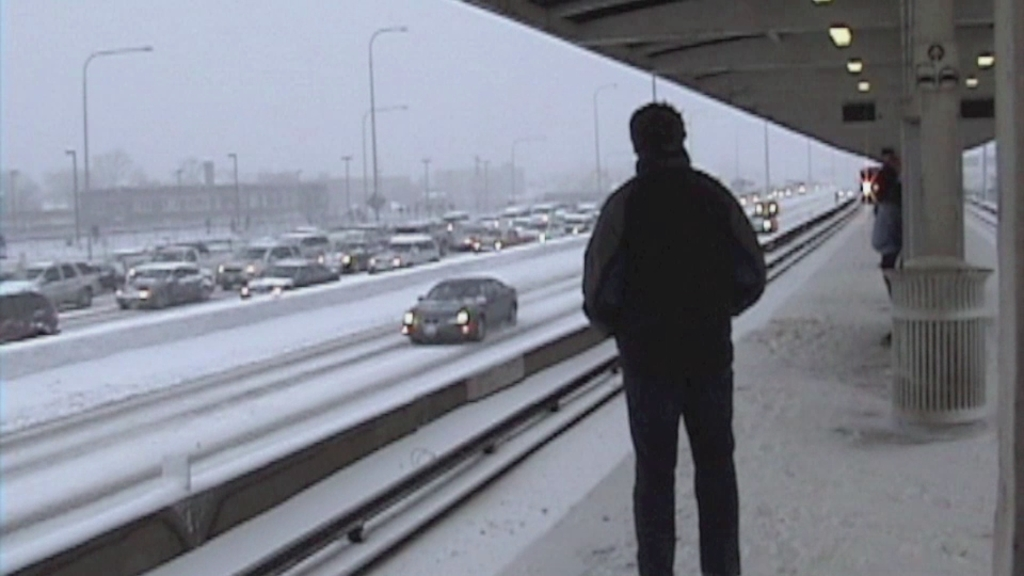Car: (219, 209, 597, 298), (391, 266, 524, 347), (0, 261, 104, 306), (115, 262, 217, 305), (0, 289, 64, 346), (155, 242, 202, 262), (105, 252, 125, 284)
